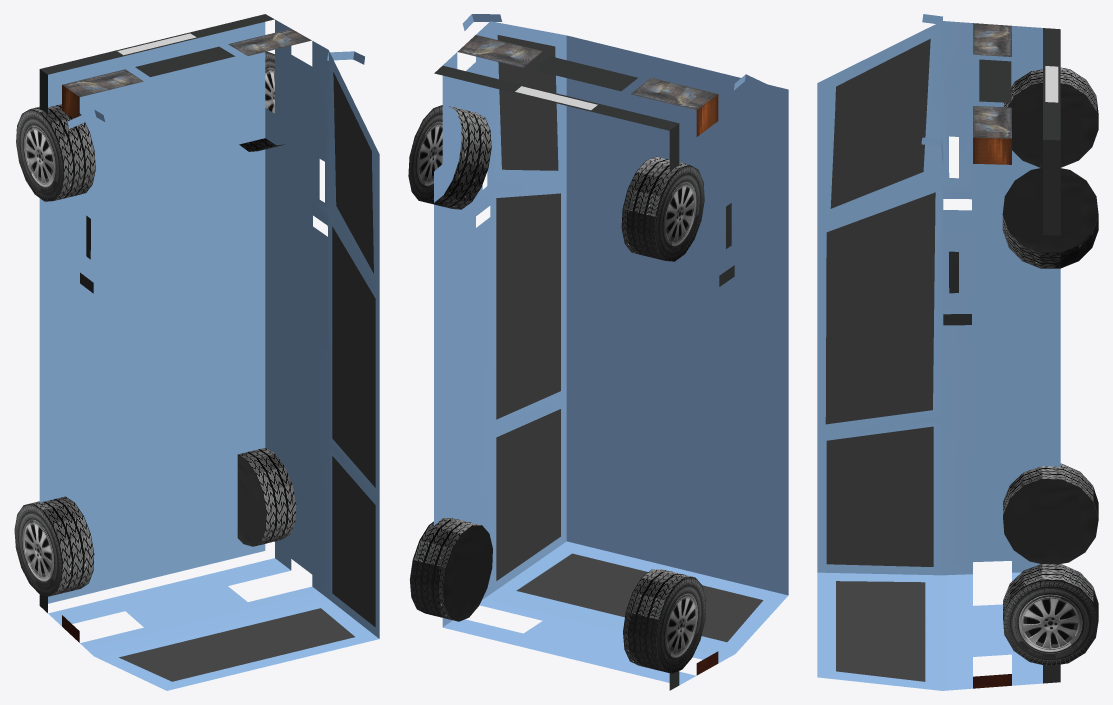
Rendered from VAN.gltf.
3 views of the same model, side by side, from view 1: azimuth 30°, elevation 25°; view 2: azimuth 150°, elevation 25°; view 3: azimuth 270°, elevation 25° (orthographic). The views are drawn at different scales.
Visible parts, largest first — view 1: Body5, WheelRL006, WheelRL009, WheelRL010, WheelRL011; view 2: Body5, WheelRL006, WheelRL010, WheelRL009, WheelRL011; view 3: Body5, WheelRL010, WheelRL006, WheelRL011, WheelRL009.
Part boxes in pixels (bbox=[...]): Body5: bbox=[39, 14, 379, 690]; WheelRL006: bbox=[14, 496, 94, 596]; WheelRL009: bbox=[16, 104, 95, 201]; WheelRL010: bbox=[237, 447, 296, 546]; WheelRL011: bbox=[239, 51, 285, 151]; Body5: bbox=[434, 21, 788, 690]; WheelRL006: bbox=[623, 569, 705, 673]; WheelRL010: bbox=[410, 518, 492, 621]; WheelRL009: bbox=[621, 156, 704, 261]; WheelRL011: bbox=[408, 105, 491, 209]; Body5: bbox=[817, 21, 1060, 690]; WheelRL010: bbox=[1003, 564, 1098, 666]; WheelRL006: bbox=[1003, 463, 1098, 564]; WheelRL011: bbox=[1002, 167, 1098, 268]; WheelRL009: bbox=[1003, 67, 1098, 167].
Bounding box in the file's own units: 0.713 × 1.3 × 0.5962.
Materials: 7 (3 with a texture image).
